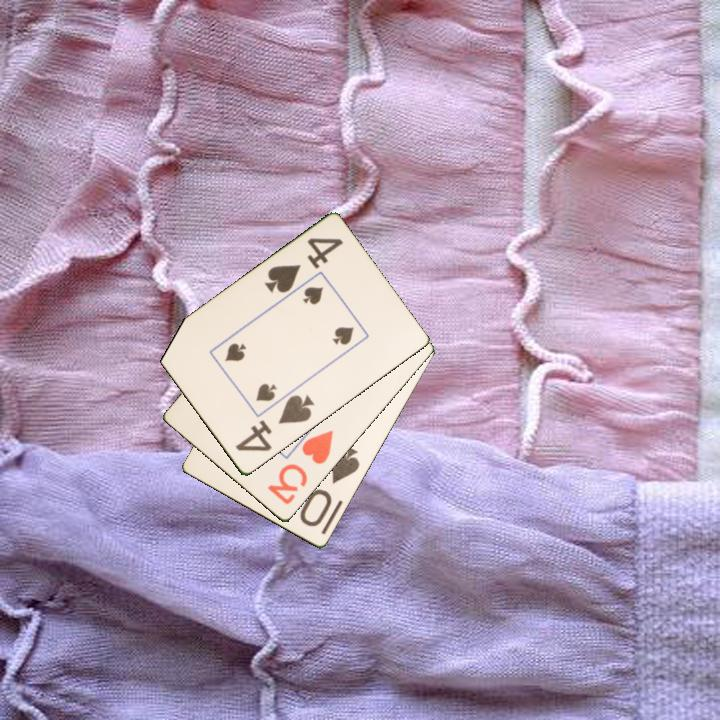10s: (296, 443, 363, 530)
3h: (264, 427, 336, 508)
4s: (232, 391, 317, 455), (261, 234, 346, 297)
